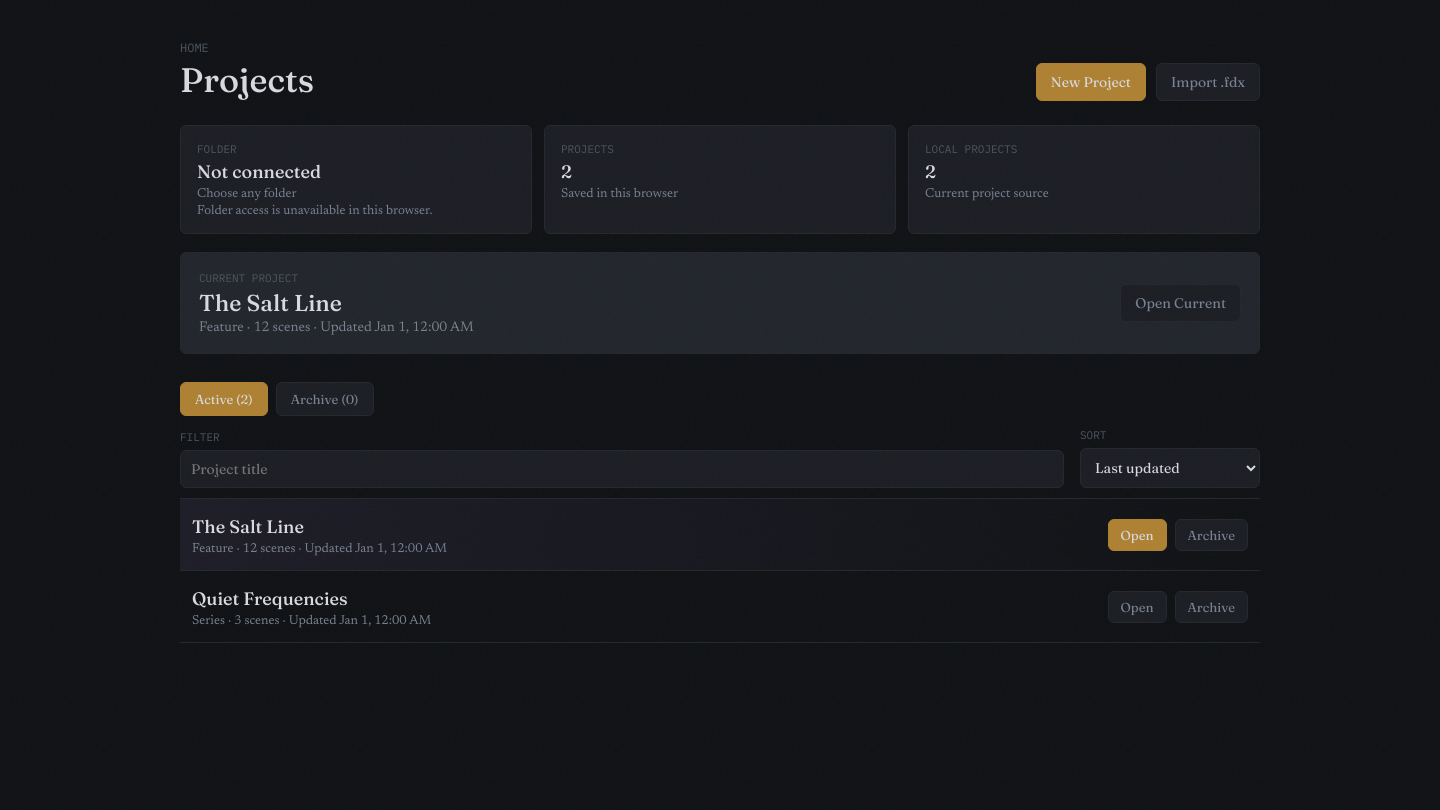
Test: HomeSurface › project Delete (Slice 5a) › opens an Archive confirm modal with exact title and cascade copy (Slice 5a-2)
What coordinates should you click on to do the following:
click the button with aria-label "Archive Quiet Frequencies"
I would click on:
 (1211, 606)
Its box is left=1175, top=590, right=1248, bottom=622.
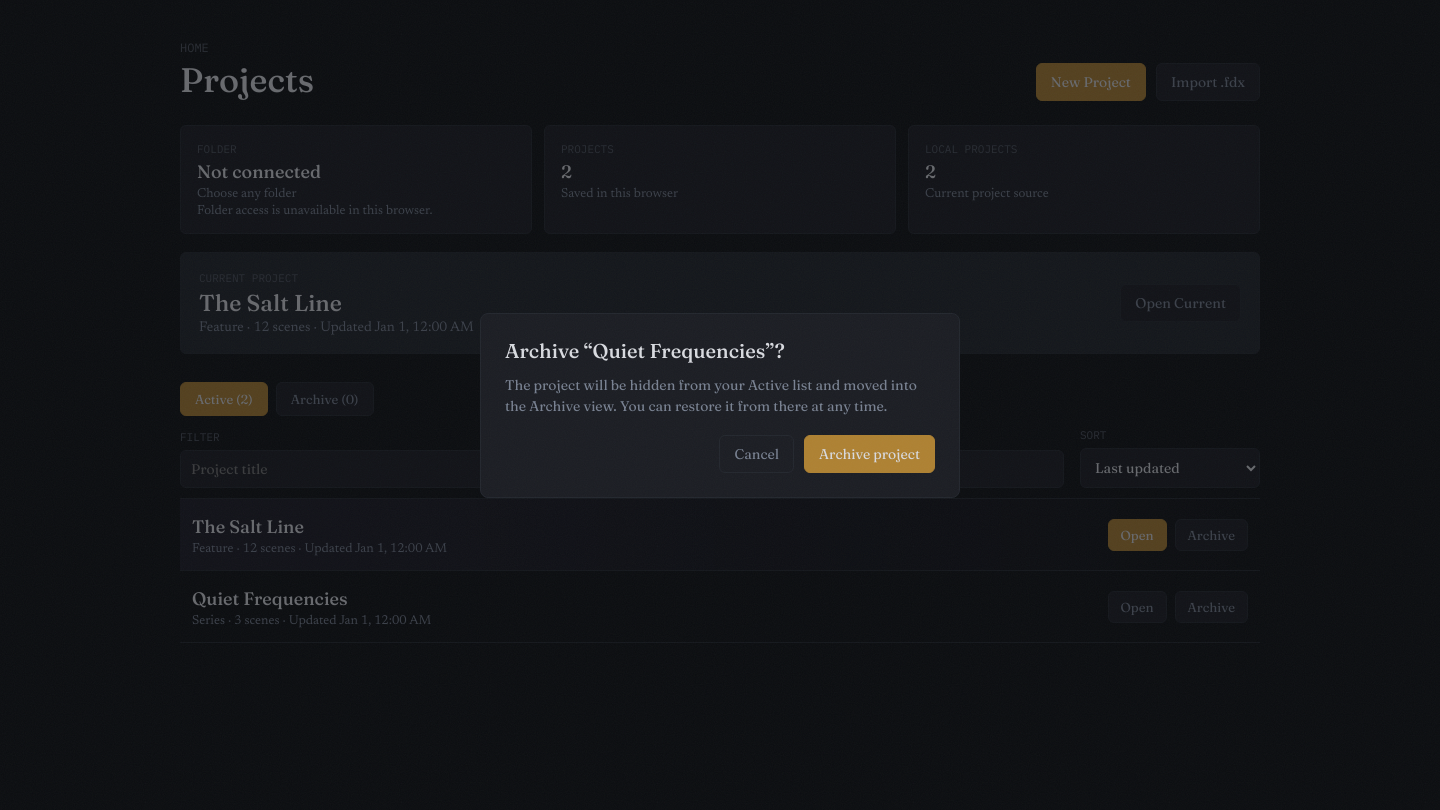
Result: the heading "Archive “Quiet Frequencies”?" is shown at left=505, top=338, right=785, bottom=362
Result: the text "hidden from your Active list" is shown at left=505, top=376, right=917, bottom=414
